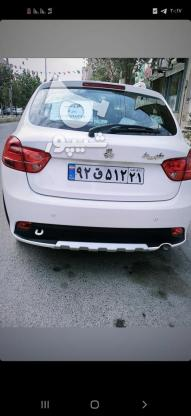car: (68, 162, 148, 186)
